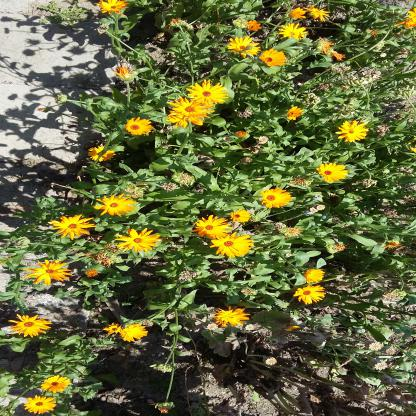marigold: (214, 318, 240, 368), (260, 342, 286, 391), (228, 254, 253, 302), (232, 161, 258, 206), (214, 182, 239, 226), (81, 185, 106, 228), (192, 277, 216, 321), (314, 362, 337, 407), (100, 202, 120, 248), (107, 207, 128, 250), (119, 45, 142, 81), (306, 164, 327, 202), (36, 153, 58, 189), (186, 121, 208, 156), (162, 66, 183, 101), (284, 89, 305, 123), (22, 106, 43, 138), (395, 357, 414, 391), (117, 261, 136, 292), (376, 342, 393, 376), (144, 300, 163, 330), (324, 267, 342, 298), (0, 286, 15, 320), (49, 128, 66, 154), (209, 164, 224, 188), (6, 84, 20, 108), (268, 90, 283, 112), (106, 110, 121, 131), (323, 289, 335, 311)
